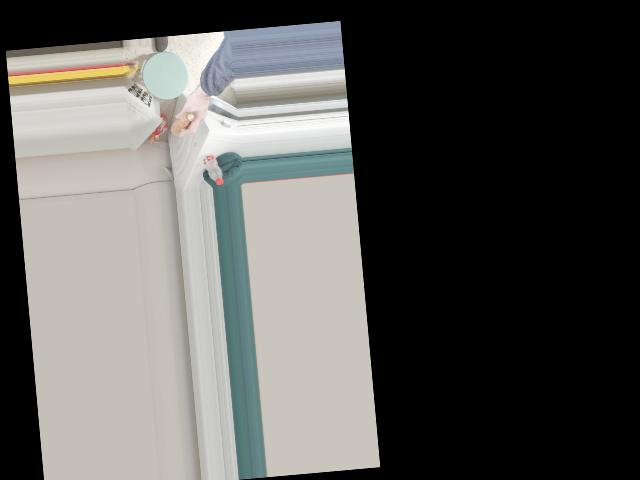sweet_potato: (170, 108, 198, 138)
